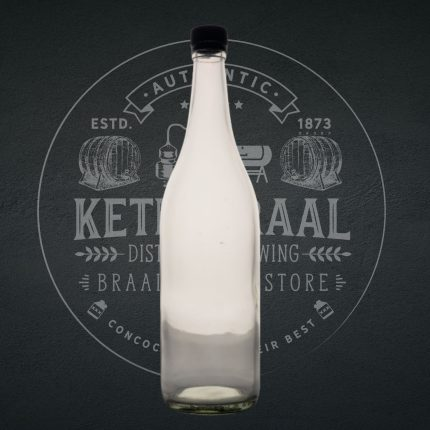glass_bottle: (143, 20, 280, 422)
